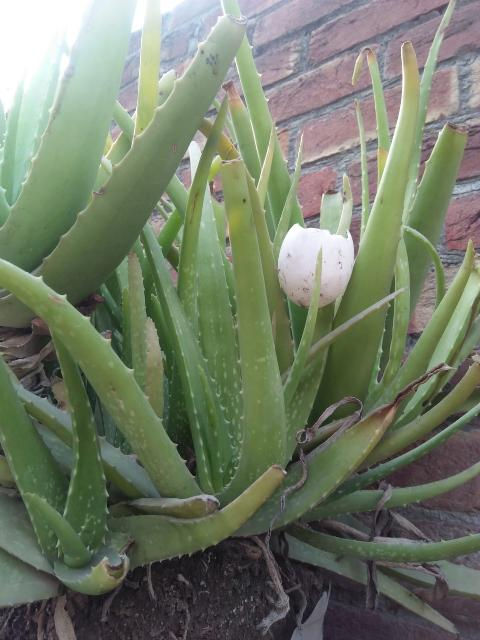Roto: (276, 222, 355, 309)
